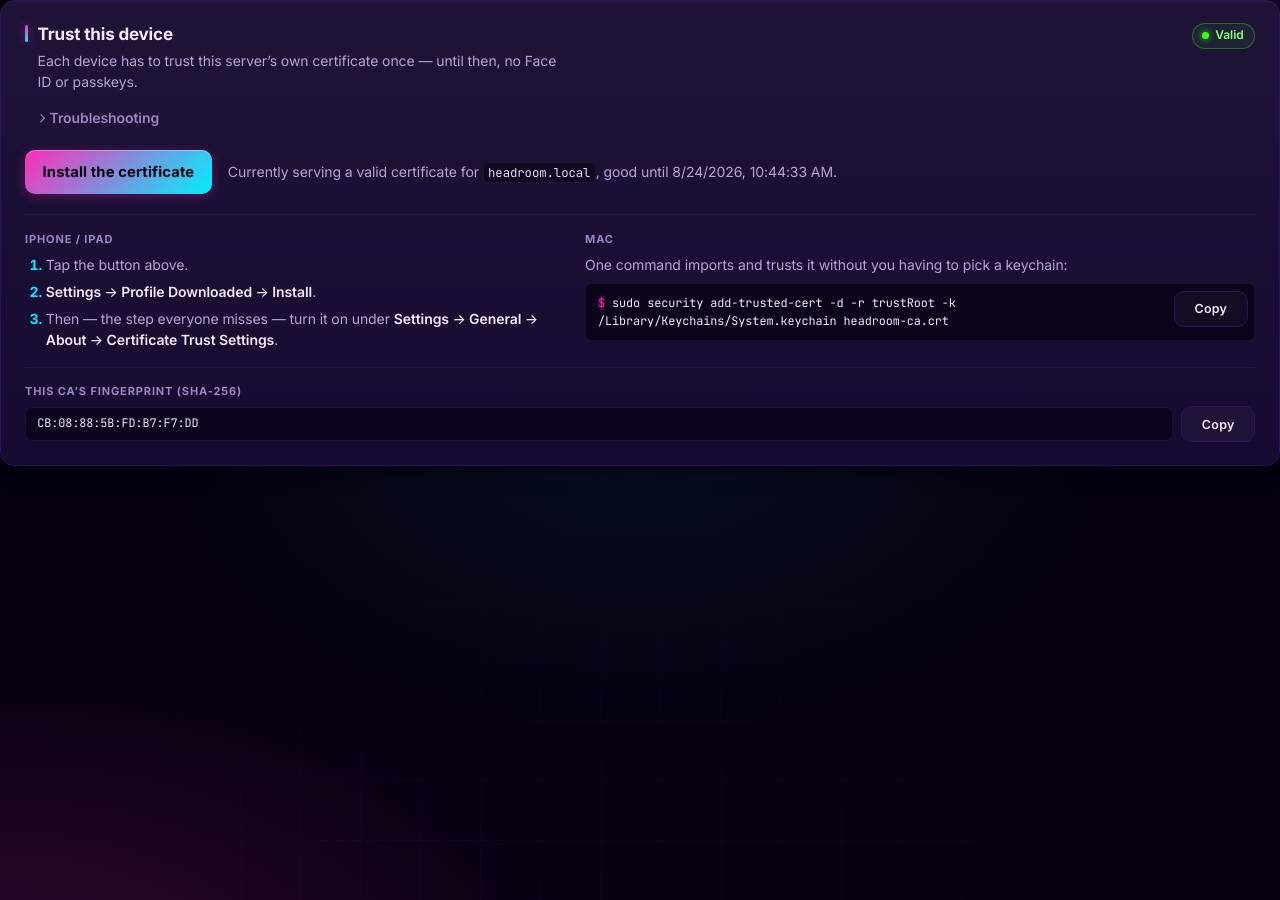
Test: TrustCertCard — copying › tells you when the browser refused to copy
Click the button with aria-label "Copy the fingerprint". click: [1218, 424]
box: [1181,406,1255,442]
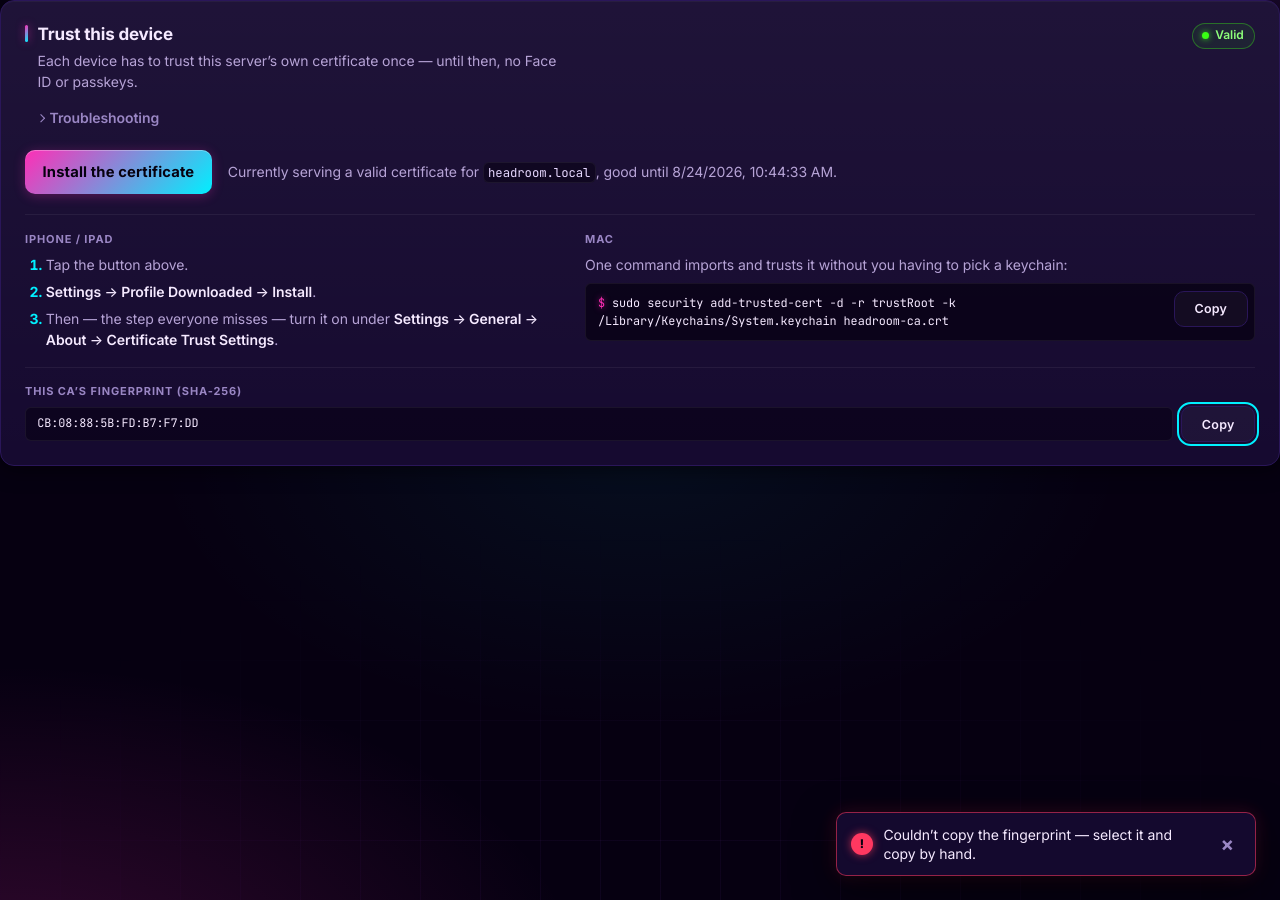
Expected: the text "Couldn’t copy the fingerprint — select it and copy by hand." is shown, [883,825,1199,864]
